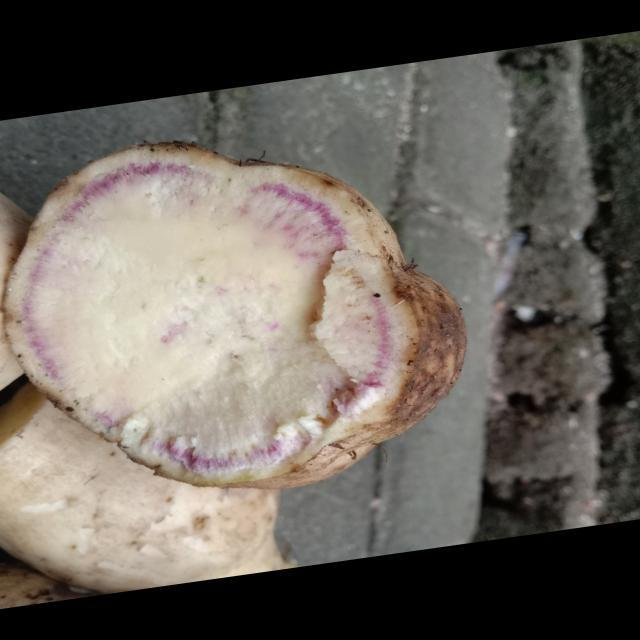Healthy Sweet Potato: (5, 142, 417, 488)
